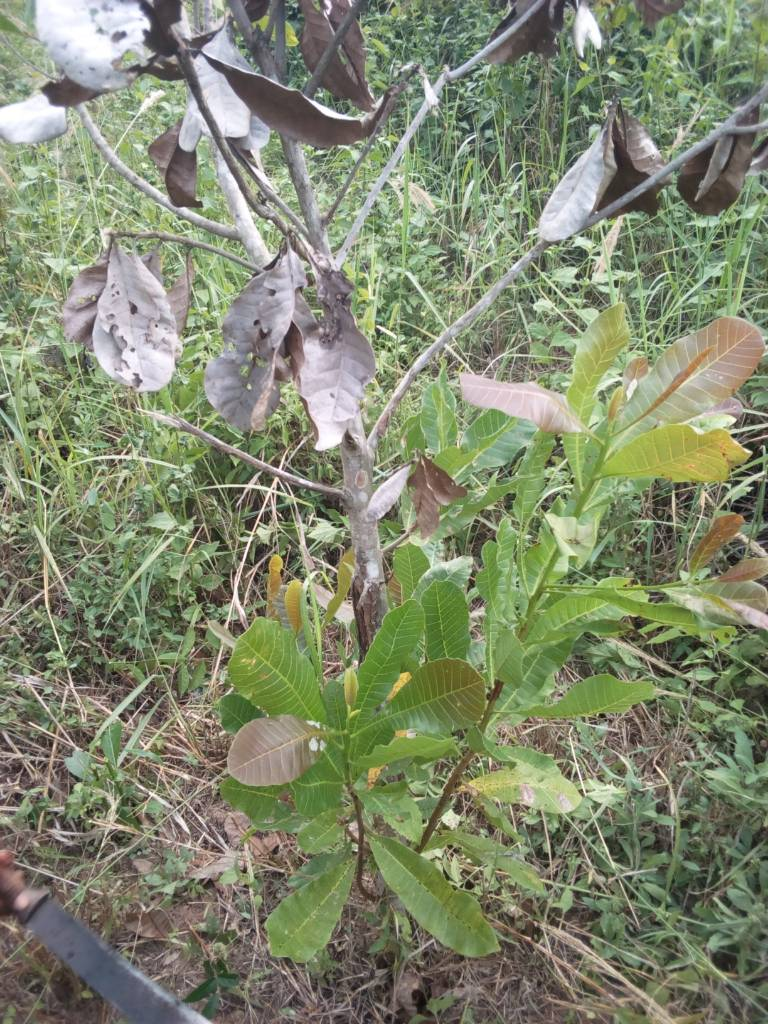Dessèchement des bourgeons: (253, 249, 362, 352)
